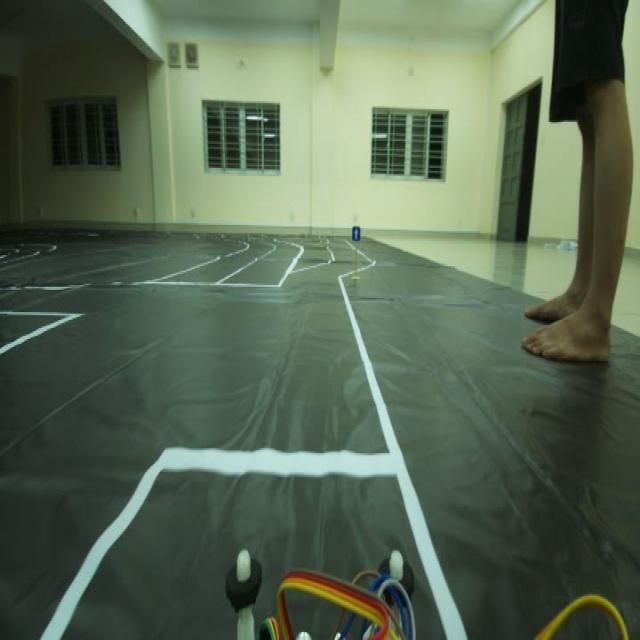onewayroad: (351, 222, 364, 250)
